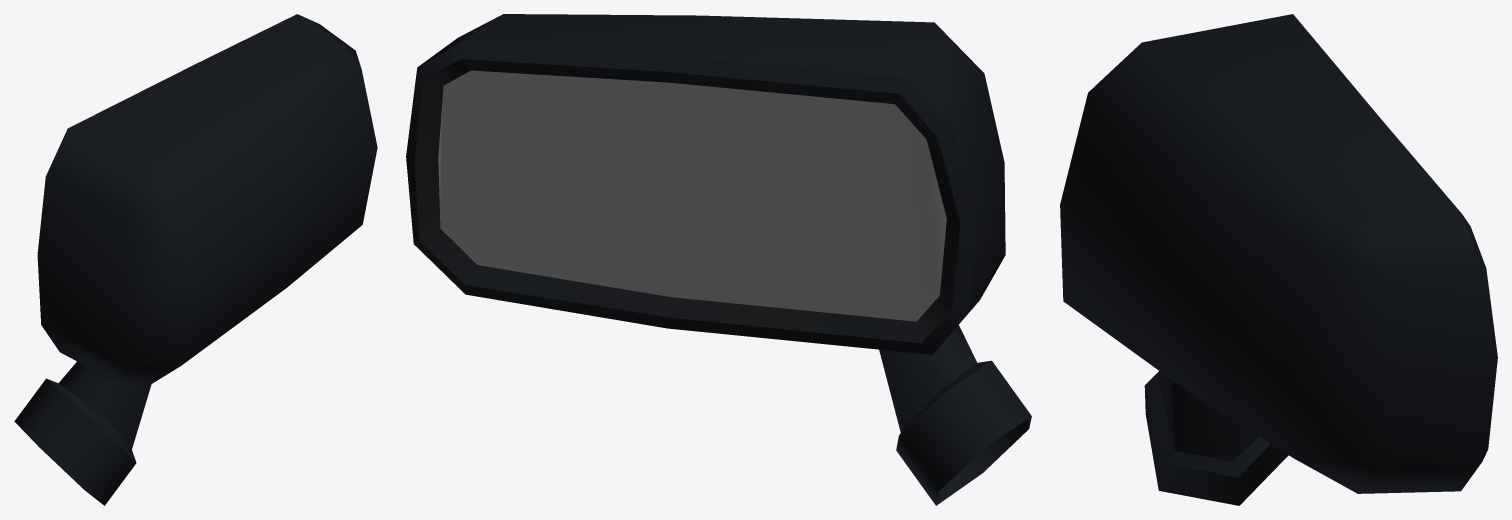
Rendered from EspejoIzquierdo.glb.
3 renders of one model, left to right at view 1: azimuth 30°, elevation 25°; view 2: azimuth 150°, elevation 25°; view 3: azimuth 270°, elevation 25°, orthographic. The views are drawn at different scales.
Parts seen in each view (by area): view 1: polySurface15.1; view 2: polySurface15.1; view 3: polySurface15.1.
Part boxes in pixels (x1,y1,x2,y2): polySurface15.1: [14, 14, 377, 505]; polySurface15.1: [406, 14, 1031, 505]; polySurface15.1: [1060, 14, 1497, 505].
Size of the model in its own units: 0.00186 by 0.00161 by 0.00128.
3 materials, 3 textured.
